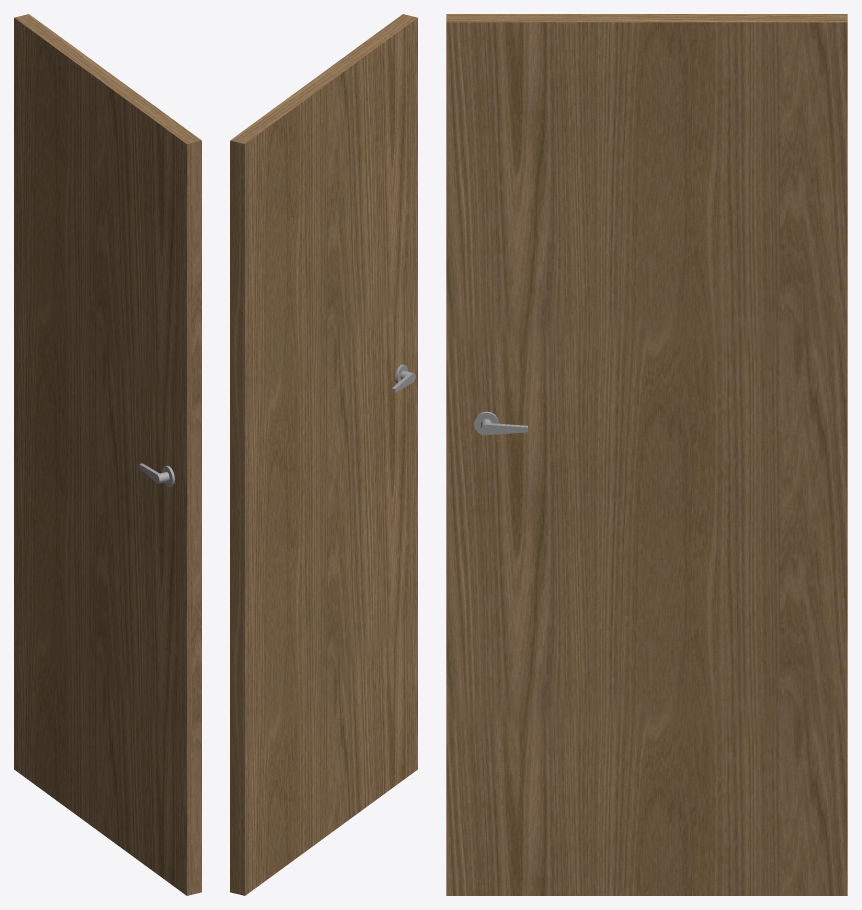
The model's file is MSH_Puerta_Lobby_Torre_1.FBX.
The picture shows the model from 3 angles, left to right: view 1: azimuth 30°, elevation 25°; view 2: azimuth 150°, elevation 25°; view 3: azimuth 270°, elevation 25°; orthographic projection. The views are drawn at different scales.
Parts seen in each view (by area): view 1: MSH_Puerta_Lobby_Torre_1; view 2: MSH_Puerta_Lobby_Torre_1; view 3: MSH_Puerta_Lobby_Torre_1.
Part boxes in pixels (<box>): MSH_Puerta_Lobby_Torre_1: <box>14,14,201,895</box>; MSH_Puerta_Lobby_Torre_1: <box>230,14,417,895</box>; MSH_Puerta_Lobby_Torre_1: <box>446,14,847,895</box>.
Size of the model in its own units: 13.38 by 240 by 100.
